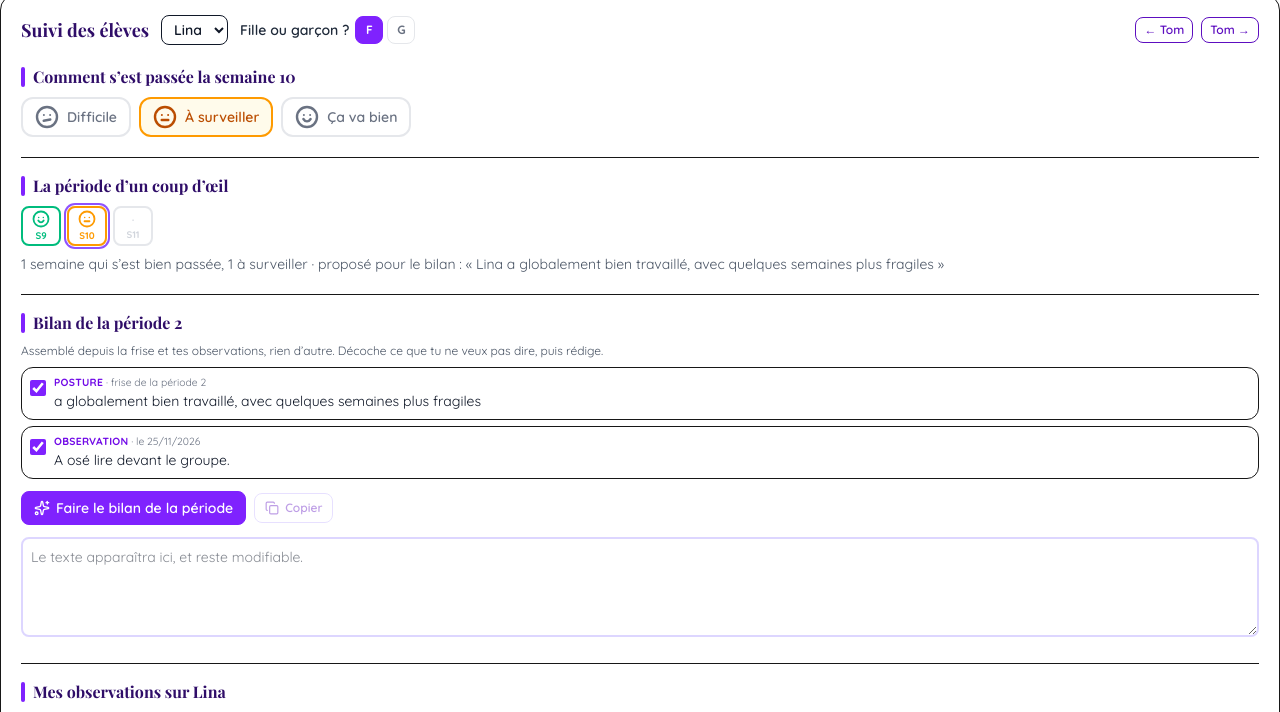
Scenario: SuiviEleves › change d’élève et ne montre que ses observations
Step 1. Click the button "Tom →" → [1230, 30], box x1=1201 y1=17 x2=1259 y2=43
(page scrolled)
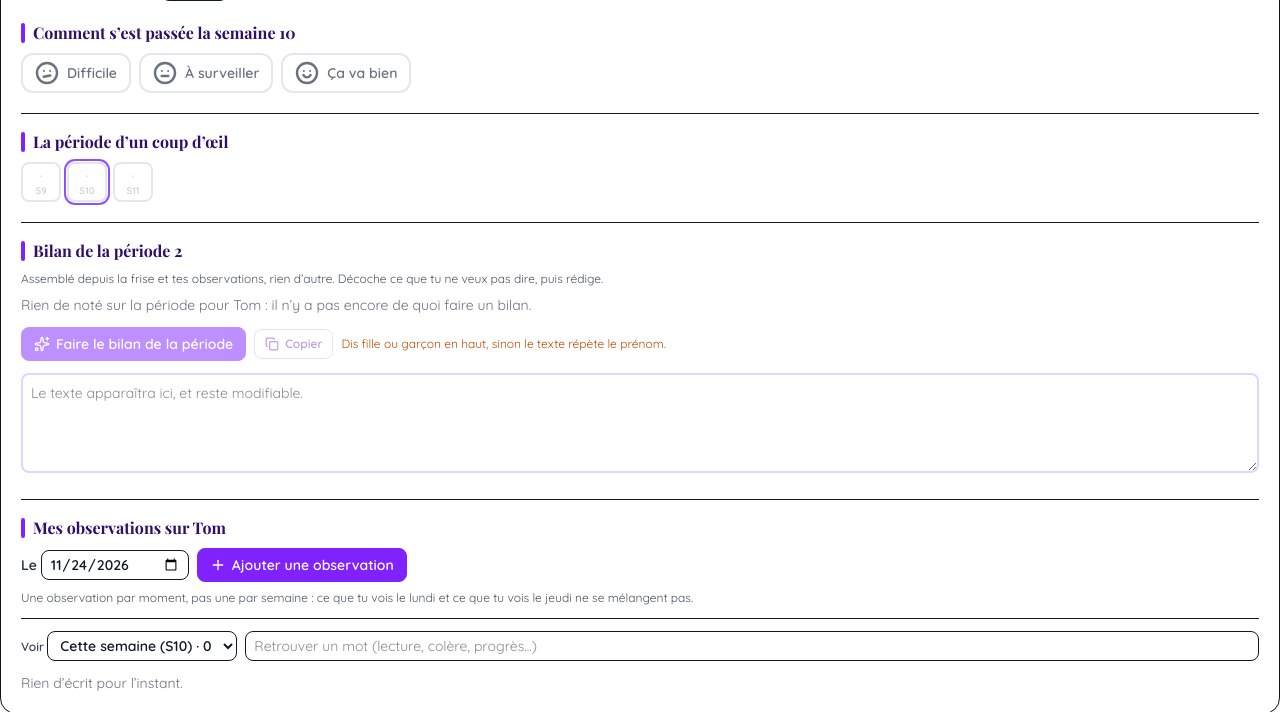
Check: the heading "Mes observations sur Tom" is shown, box x1=21 y1=517 x2=226 y2=538
Check: the text "Rien d’écrit pour l’instant." is shown, box x1=21 y1=674 x2=183 y2=692
